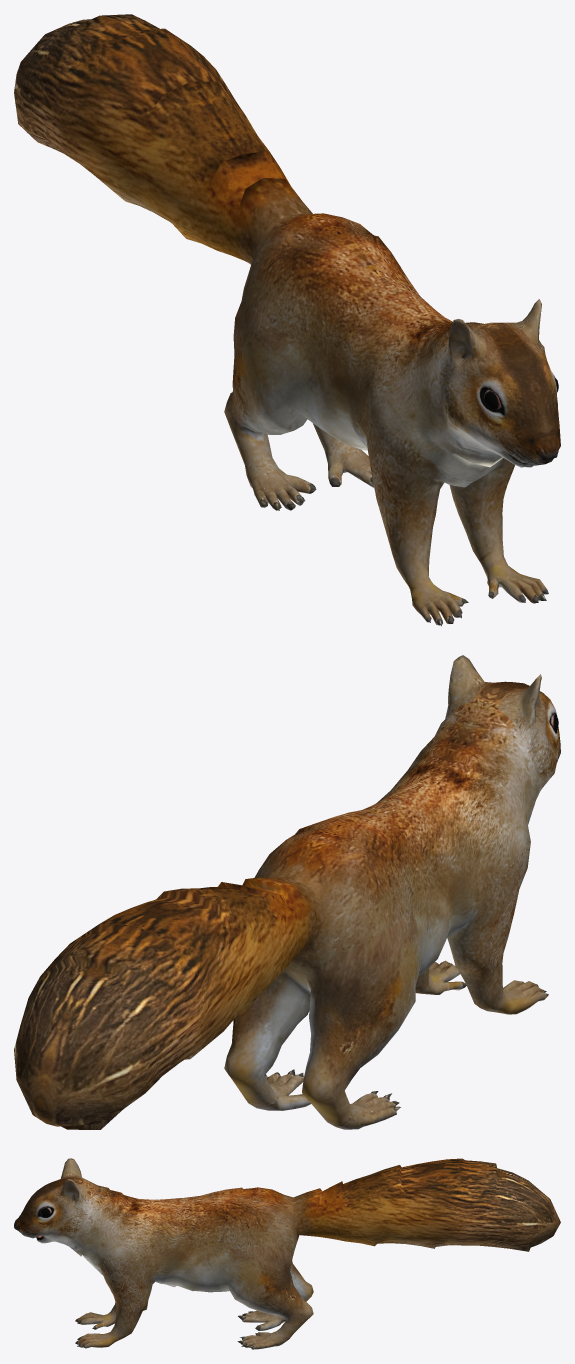
File: squirrel.glb
The picture shows the model from 3 angles, top to bottom: view 1: azimuth 30°, elevation 25°; view 2: azimuth 150°, elevation 25°; view 3: azimuth 270°, elevation 25°; orthographic projection. The views are drawn at different scales.
Parts seen in each view (by area): view 1: sm_1_0_0_0; view 2: sm_1_0_0_0; view 3: sm_1_0_0_0.
Part boxes in pixels (bbox=[...]): sm_1_0_0_0: bbox=[14, 14, 560, 626]; sm_1_0_0_0: bbox=[14, 655, 560, 1129]; sm_1_0_0_0: bbox=[14, 1158, 560, 1349].
Size of the model in its own units: 0.0762 by 0.1458 by 0.425.
2 materials, 2 textured.
